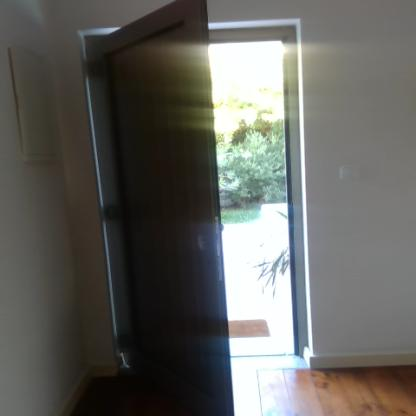semi: (82, 5, 308, 379)
